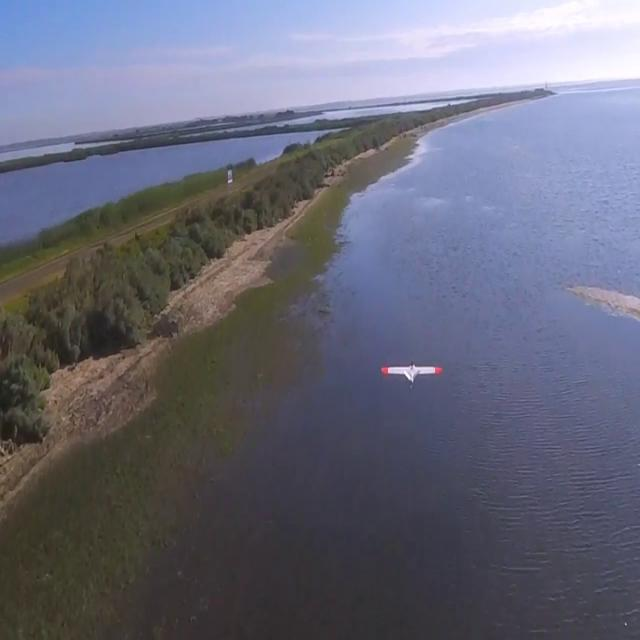iha: (411, 360, 414, 389)
